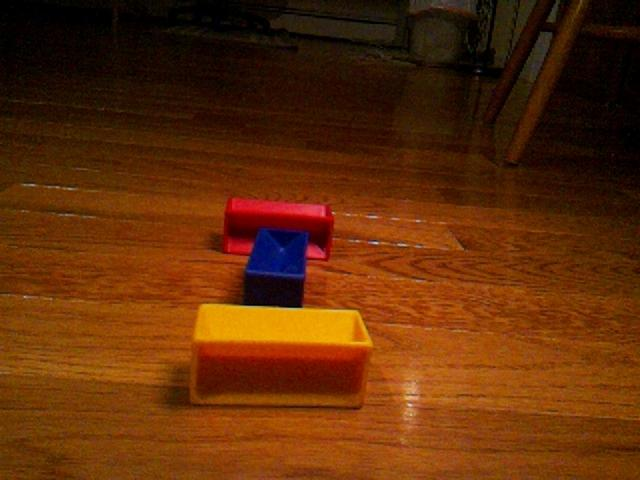blue: (242, 227, 310, 307)
red: (221, 195, 336, 262)
yellow: (189, 302, 374, 409)
